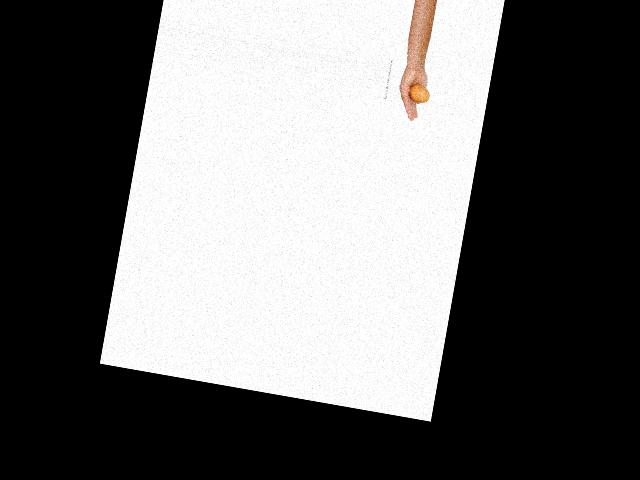egg: (407, 83, 431, 104)
